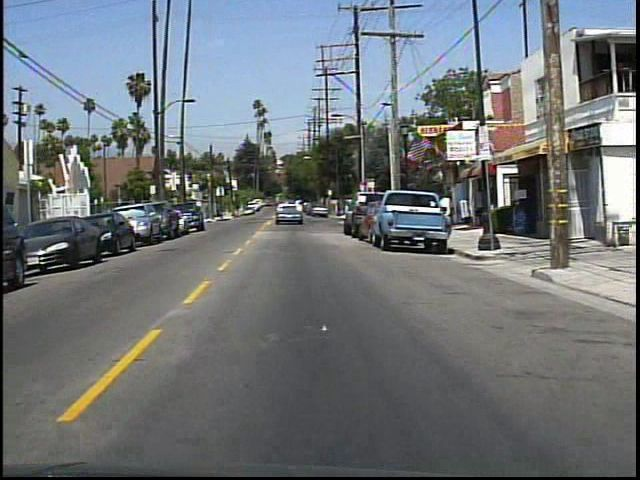person: (437, 190, 456, 231)
